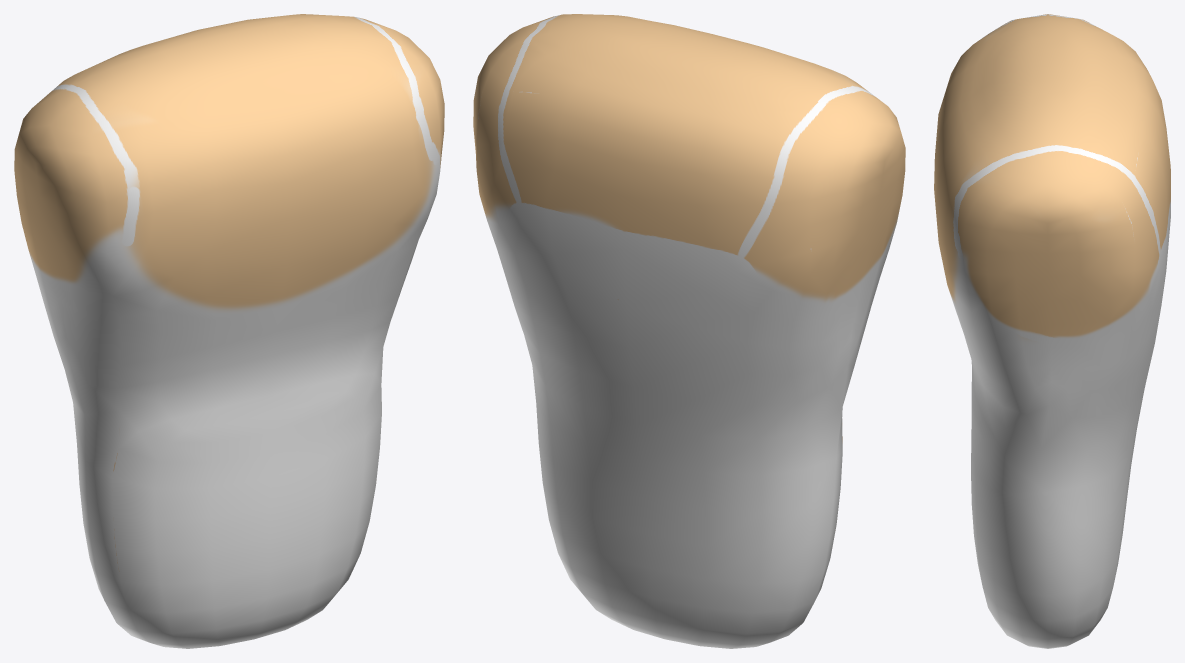
The model's file is torso.glb.
The picture shows the model from 3 angles, left to right: view 1: azimuth 30°, elevation 25°; view 2: azimuth 150°, elevation 25°; view 3: azimuth 270°, elevation 25°; orthographic projection. The views are drawn at different scales.
Visible parts, largest first — view 1: Cube; view 2: Cube; view 3: Cube.
Boxes of the visible parts, x1,y1,x2,y2 form: Cube: [14, 14, 444, 648]; Cube: [473, 14, 905, 648]; Cube: [934, 14, 1170, 648].
Bounding box in the file's own units: 0.2886 × 0.4175 × 0.1614.
Materials: 1 (1 with a texture image).
